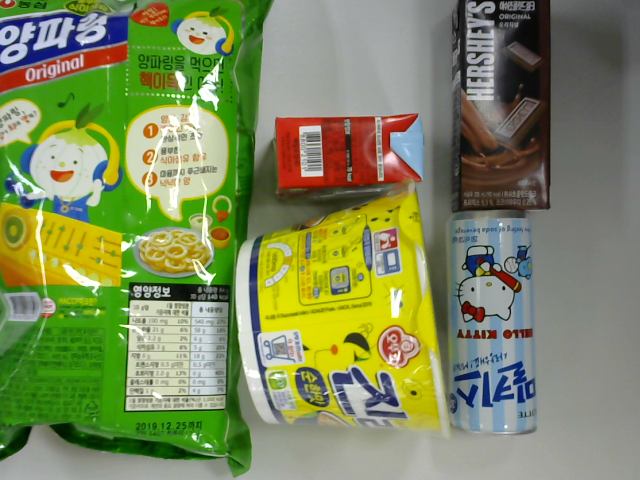Hush_Choco_Drink: (441, 1, 562, 225)
Jinlamyeon_Mild_Taste_Large_Cup: (209, 186, 458, 445)
Milkies_250ml: (433, 207, 542, 431)
Oninon_Ring: (1, 2, 269, 462)
Picnic_Apple: (257, 109, 443, 196)
